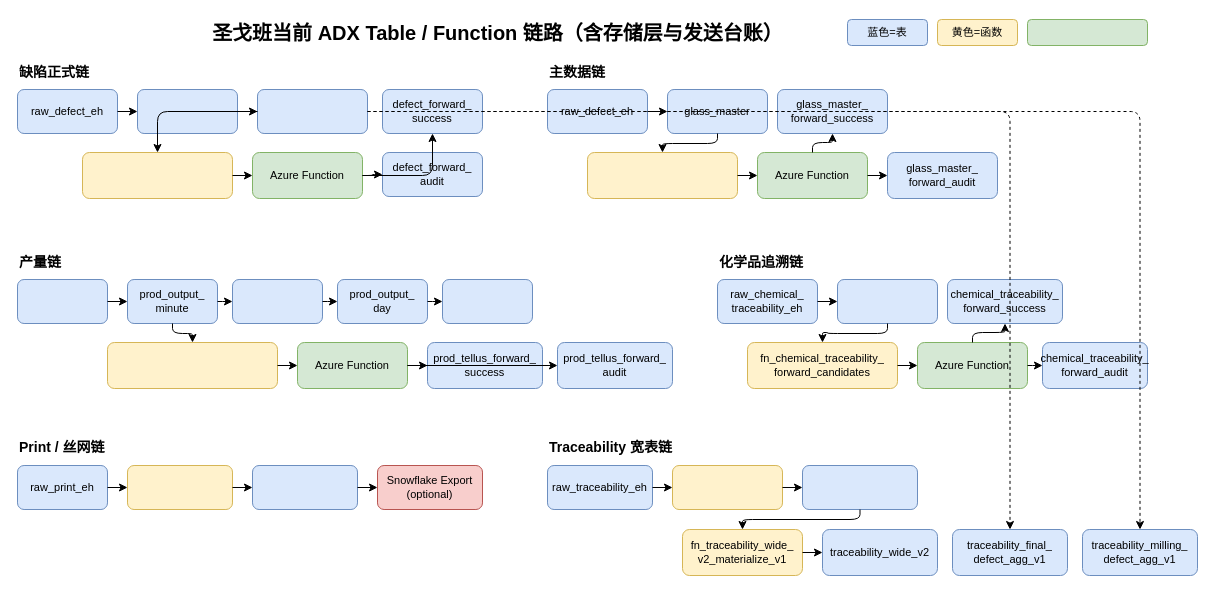
Some shapes in this 1215 by 593 pixel diagram are drawn without their labels. The shapes that lost their labels are listed below. From the top down, each one's centre as x and y in pixels, then its label:
the point at 1087,32: 绿色=Azure Function
the point at 187,111: defect_std_all_v2
the point at 312,111: defect_plc_report_ equivalent_v2
the point at 157,175: fn_defect_forward_ candidates_scheme_b_v2
the point at 662,175: fn_glass_master_ forward_candidates
the point at 62,301: raw_ops_eh
the point at 277,301: prod_output_ hour
the point at 487,301: prod_output_ month
the point at 887,301: chemical_traceability_ std
the point at 192,365: fn_prod_tellus_forward_ candidates_with_watermark_v1
the point at 179,487: fn_print_snapshot_ materialize
the point at 305,487: print_snapshot_std
the point at 727,487: fn_traceability_ normalized_events_v1
the point at 860,487: traceability_normalized_ events_v2
